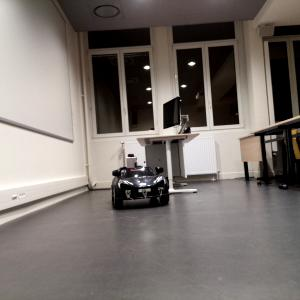big: (110, 164, 170, 210)
